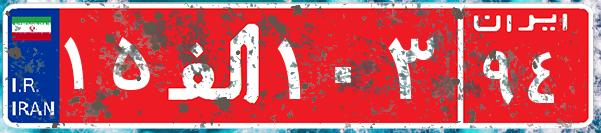0: (330, 28, 385, 110)
1: (273, 28, 330, 110), (57, 26, 110, 107)
3: (385, 28, 445, 110)
4: (525, 38, 570, 115)
5: (110, 28, 158, 105)
9: (475, 38, 525, 113)
الف: (158, 15, 273, 115)
